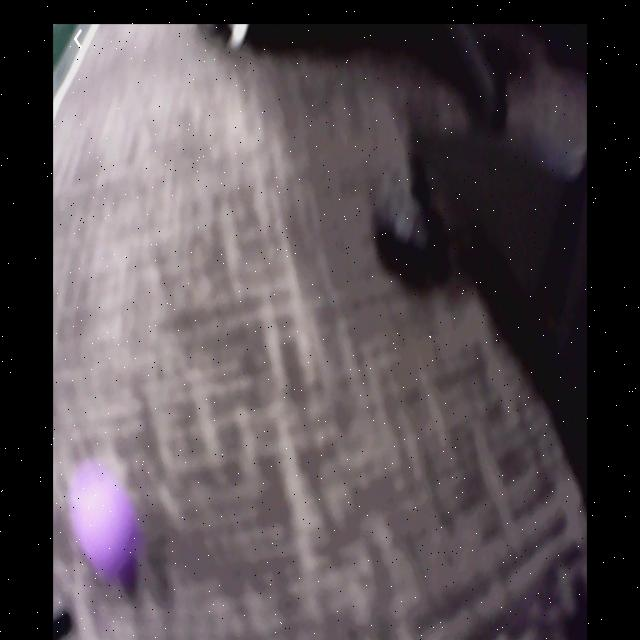ball: (71, 466, 140, 585)
